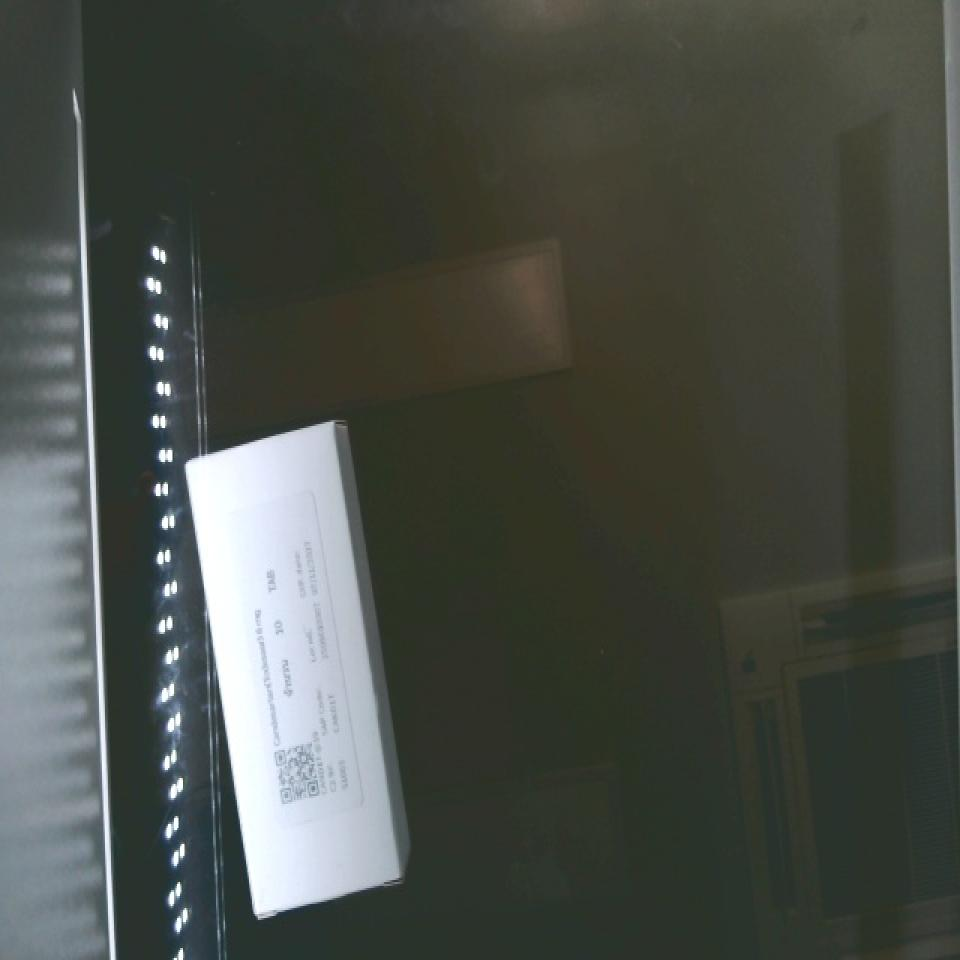medicine_box: (180, 425, 403, 918)
qr_code: (259, 724, 344, 818)
